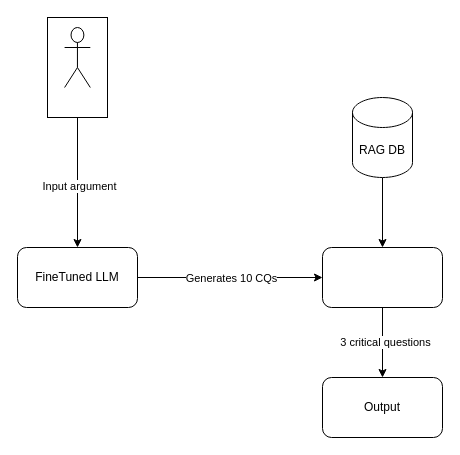
Some shapes in this 460 by 455 pixel diagram are drawn without their labels. Each missing label, with the box of its shape:
RankCQ: (322, 246, 442, 308)
User: (64, 26, 90, 88)
